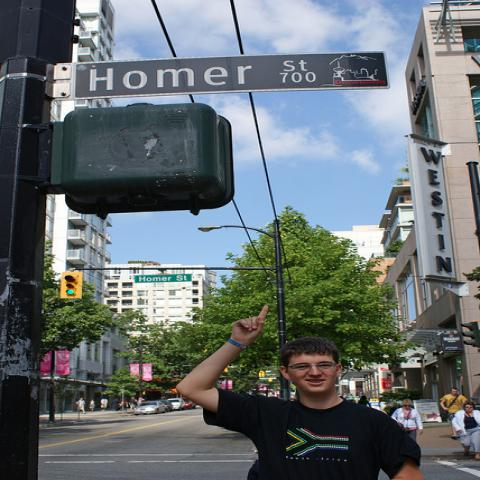car: (134, 402, 167, 414), (154, 399, 174, 412), (168, 398, 186, 410), (181, 398, 196, 409)
